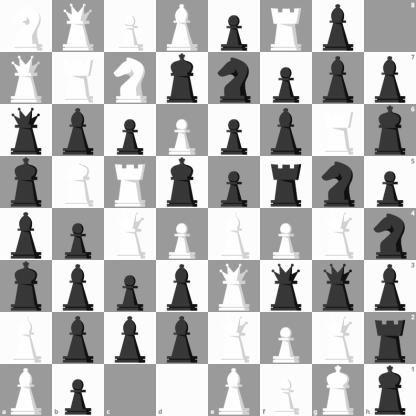B: (0, 364, 52, 416), (209, 364, 260, 416), (1, 313, 52, 364), (157, 1, 208, 52), (209, 209, 260, 260)
K: (312, 364, 364, 416), (53, 157, 104, 208)
N: (1, 1, 52, 52), (105, 53, 156, 104)
P: (260, 364, 312, 416), (105, 1, 156, 52), (157, 105, 208, 156), (157, 209, 208, 260), (261, 209, 312, 260), (261, 313, 312, 364)
Q: (1, 53, 52, 104), (53, 1, 104, 52), (105, 209, 156, 260), (209, 261, 260, 312), (209, 313, 260, 364), (313, 209, 364, 260), (313, 313, 364, 364)
R: (53, 53, 104, 104), (105, 157, 156, 208), (261, 1, 312, 52), (313, 105, 364, 156)
b: (364, 52, 416, 104), (364, 260, 416, 312), (1, 209, 52, 260), (53, 105, 104, 156), (53, 261, 104, 312), (53, 313, 104, 364), (105, 313, 156, 364), (157, 261, 208, 312), (157, 313, 208, 364), (261, 105, 312, 156), (313, 1, 364, 52), (313, 53, 364, 104)
board: (0, 0, 415, 415)
k: (364, 104, 416, 156), (364, 364, 416, 416), (1, 157, 52, 208), (1, 261, 52, 312), (157, 53, 208, 104), (157, 157, 208, 208)
n: (364, 209, 416, 260), (209, 53, 260, 104), (313, 157, 364, 208)
p: (364, 156, 416, 209), (52, 364, 104, 416), (53, 209, 104, 260), (105, 105, 156, 156), (105, 261, 156, 312), (209, 1, 260, 52), (209, 105, 260, 156), (209, 157, 260, 208), (261, 53, 312, 104)
q: (1, 105, 52, 156), (261, 261, 312, 312), (313, 261, 364, 312)
r: (364, 312, 416, 364), (261, 157, 312, 208)
